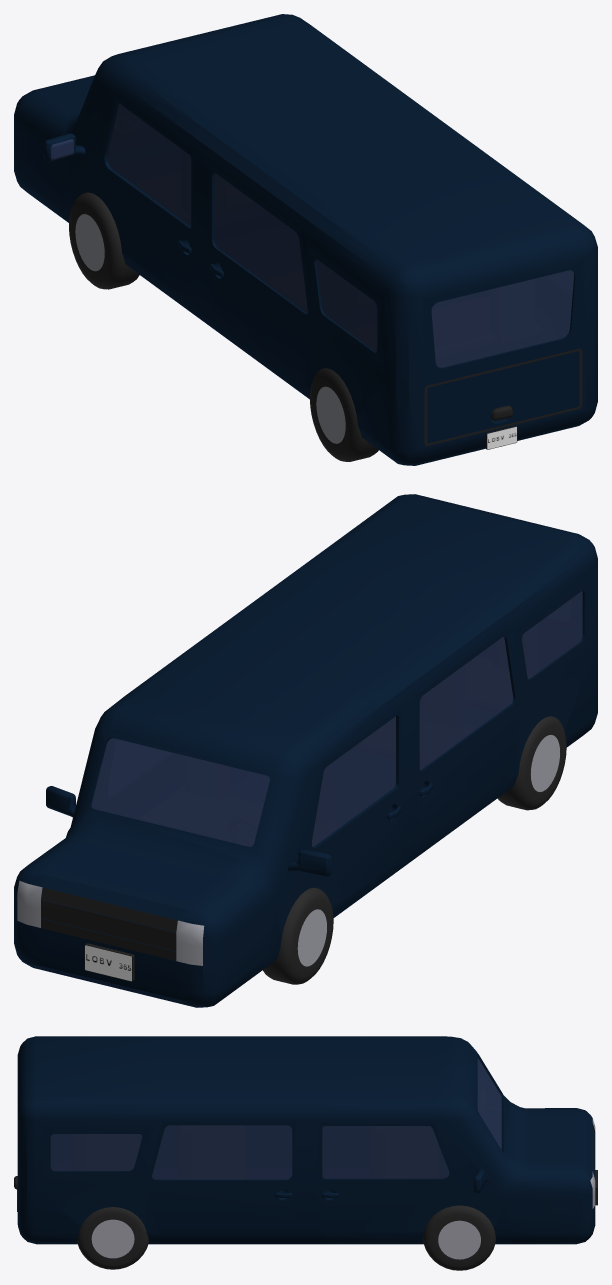
File: familyvanNEW.fbx
The picture shows the model from 3 angles, top to bottom: view 1: azimuth 30°, elevation 25°; view 2: azimuth 150°, elevation 25°; view 3: azimuth 270°, elevation 25°; orthographic projection. The views are drawn at different scales.
Parts seen in each view (by area): view 1: handle.001, back wheel R.003, back wheel R.004; view 2: handle.001, back wheel R.003, back wheel R.004, licenseplate; view 3: handle.001, back wheel R.002, back wheel R.001.
Boxes of the visible parts, box(x1,y1,x2,y2) form: handle.001: box(14, 14, 597, 465); back wheel R.003: box(69, 192, 139, 289); back wheel R.004: box(310, 368, 378, 461); handle.001: box(14, 494, 597, 1007); back wheel R.003: box(263, 887, 333, 984); back wheel R.004: box(497, 716, 566, 810); licenseplate: box(84, 943, 134, 981); handle.001: box(17, 1036, 595, 1244); back wheel R.002: box(423, 1205, 495, 1270); back wheel R.001: box(77, 1207, 148, 1269).
Size of the model in its own units: 392 by 300 by 950.
